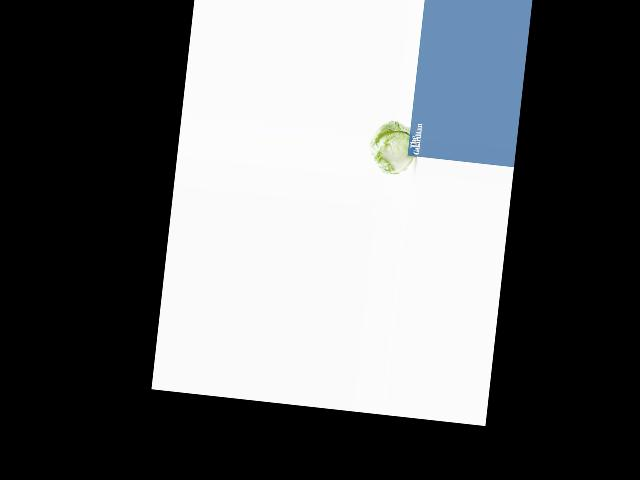lettuce: (364, 119, 417, 175)
